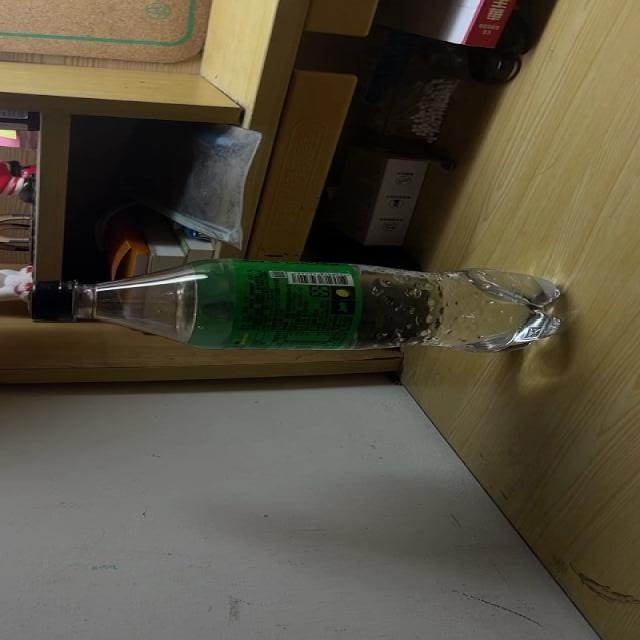Sprite: (30, 261, 566, 352)
